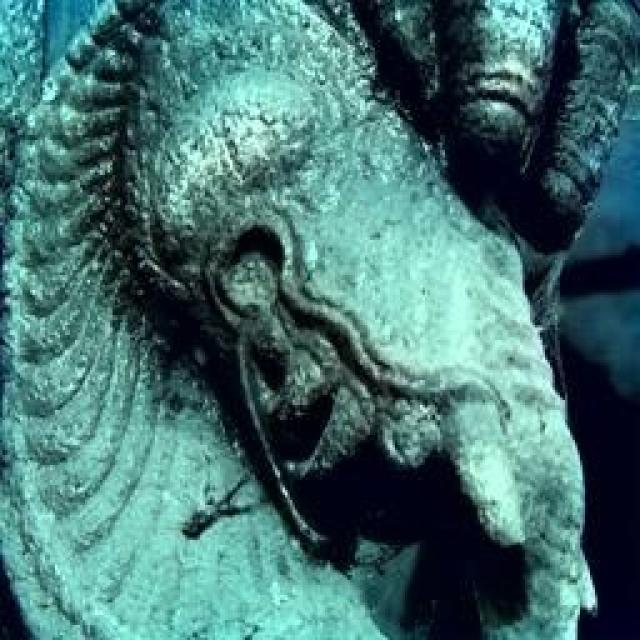wrecks-ruins: (0, 0, 638, 638)
